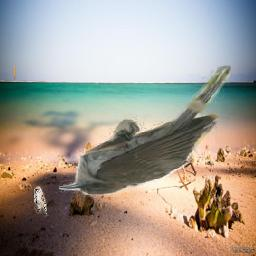Cuckoo: (59, 65, 231, 195)
Sparrow: (35, 186, 48, 214)
